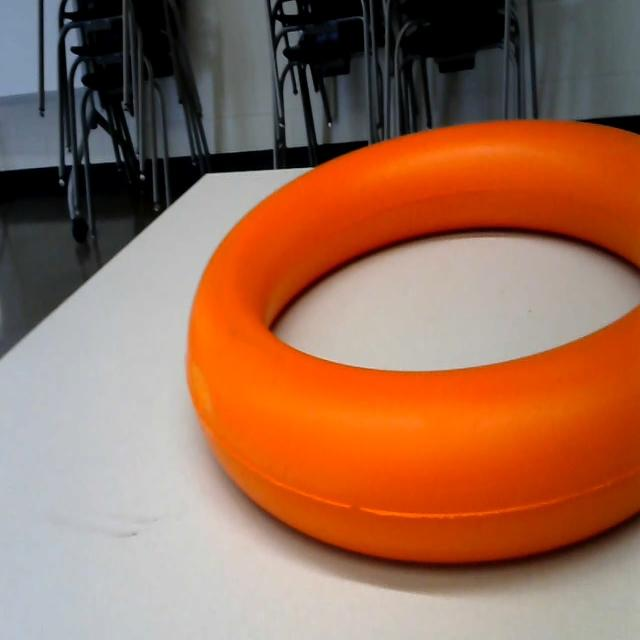note: (174, 101, 640, 579)
